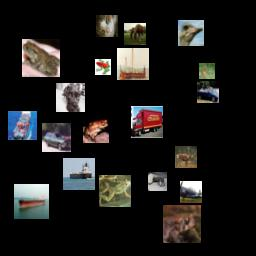airplane: (180, 181, 202, 203)
automobile: (42, 123, 71, 152), (197, 81, 219, 103)
bird: (178, 20, 204, 46)
cat: (96, 15, 118, 37), (148, 172, 167, 191)
deer: (175, 146, 197, 168), (199, 63, 215, 79)
dog: (56, 83, 85, 112)
frog: (22, 39, 60, 77), (163, 205, 201, 243), (99, 175, 131, 207), (83, 117, 109, 143), (95, 59, 111, 75)
ship: (14, 184, 49, 219), (117, 48, 149, 80), (63, 158, 95, 190), (8, 111, 37, 140)
truck: (131, 106, 163, 138)
